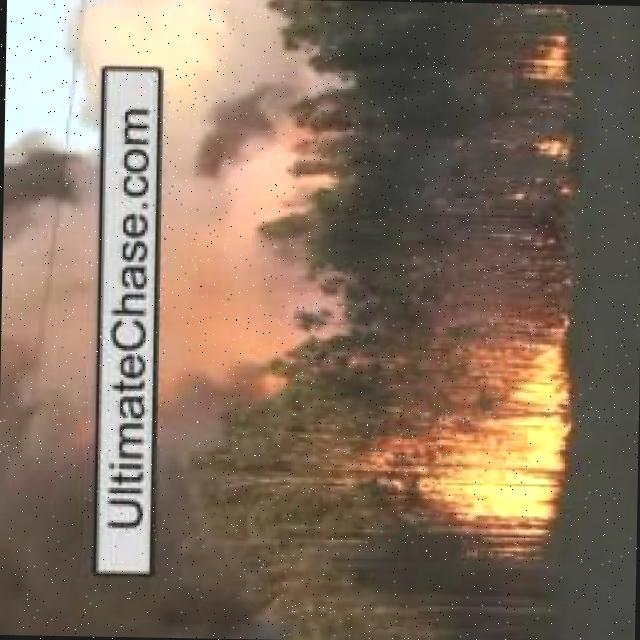fire: (412, 322, 568, 530), (524, 31, 573, 84), (532, 125, 568, 164)
